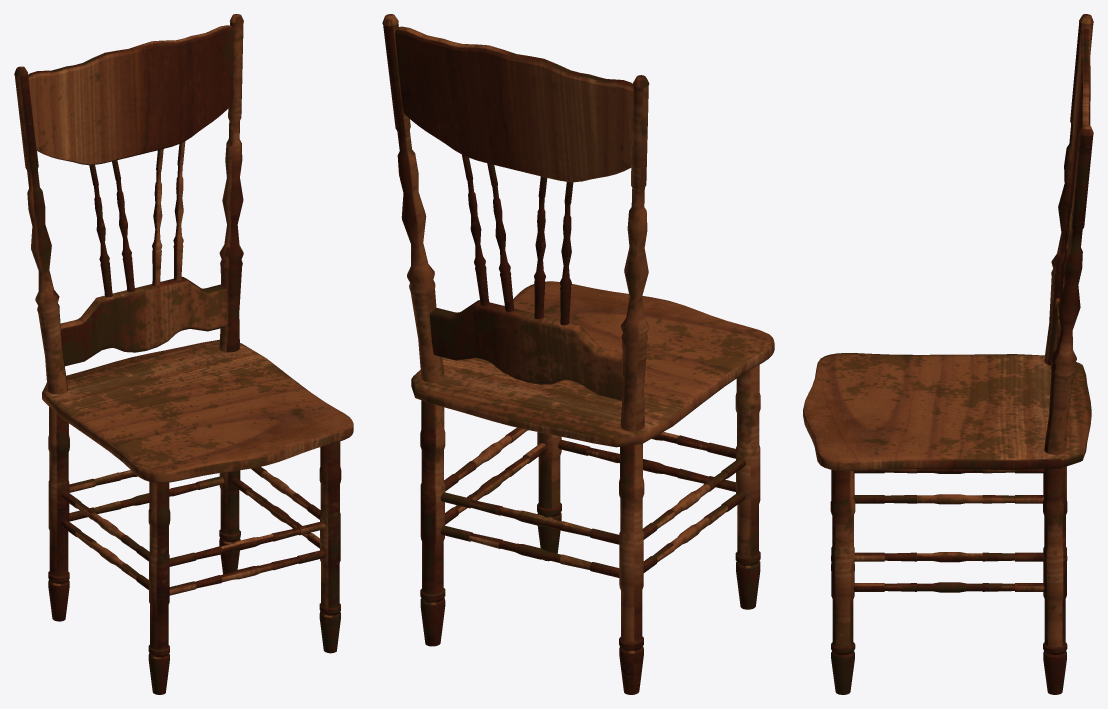
File: CaideraMadeira_Del_CENA.fbx
3 views of the same model, side by side, from view 1: azimuth 30°, elevation 25°; view 2: azimuth 150°, elevation 25°; view 3: azimuth 270°, elevation 25° (orthographic). The views are drawn at different scales.
Parts seen in each view (by area): view 1: Cylinder.006; view 2: Cylinder.006; view 3: Cylinder.006.
Boxes of the visible parts, bbox=[...] form: Cylinder.006: bbox=[14, 14, 353, 694]; Cylinder.006: bbox=[382, 14, 774, 694]; Cylinder.006: bbox=[803, 14, 1093, 694].
Bounding box in the file's own units: 52.18 × 119 × 54.55.
